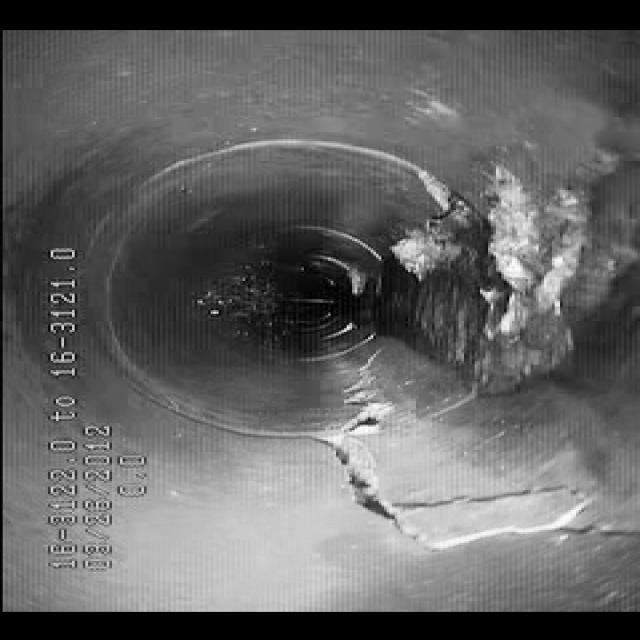Fracture: (283, 414, 624, 562)
